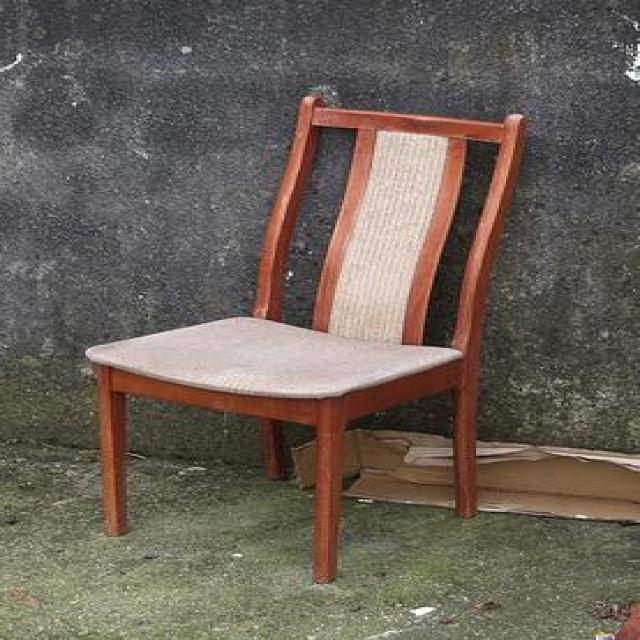chair: (83, 92, 527, 584)
